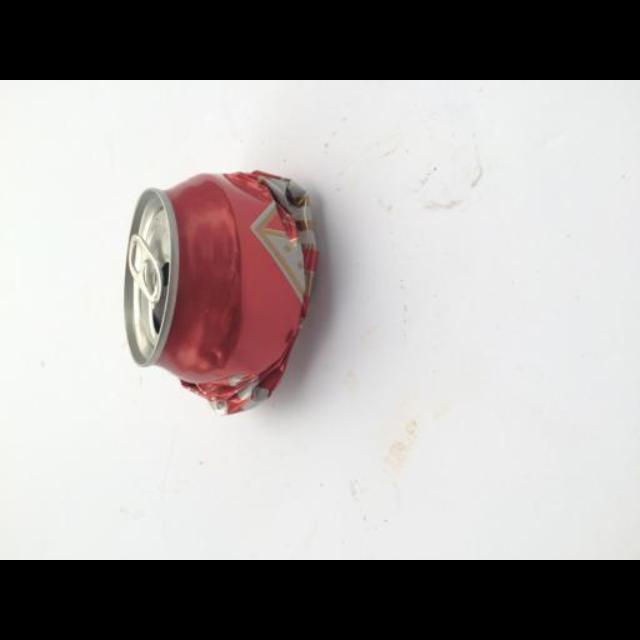aba de lata: (126, 232, 166, 306)
lata: (121, 168, 321, 412)
